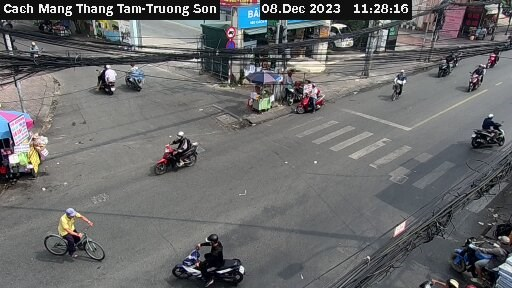motorbike: (163, 237, 254, 288), (149, 138, 206, 187), (448, 224, 492, 280), (89, 61, 131, 101), (123, 61, 159, 96), (294, 89, 331, 121), (476, 118, 512, 150), (468, 68, 498, 102), (436, 54, 460, 82), (485, 42, 507, 71), (448, 44, 471, 67)
